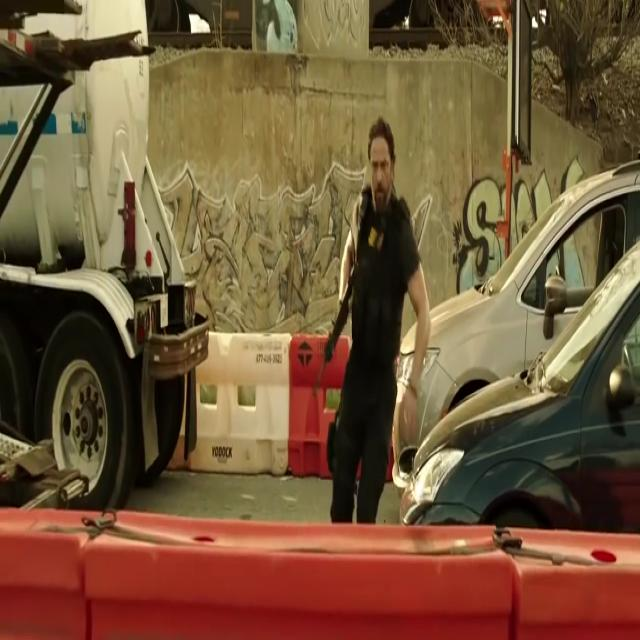Weapon: (316, 238, 371, 428)
